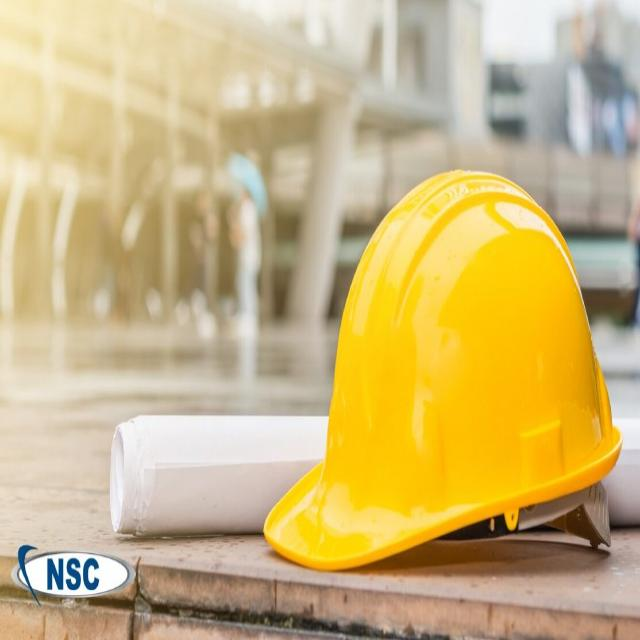Safety-Helmet: (261, 170, 627, 564)
